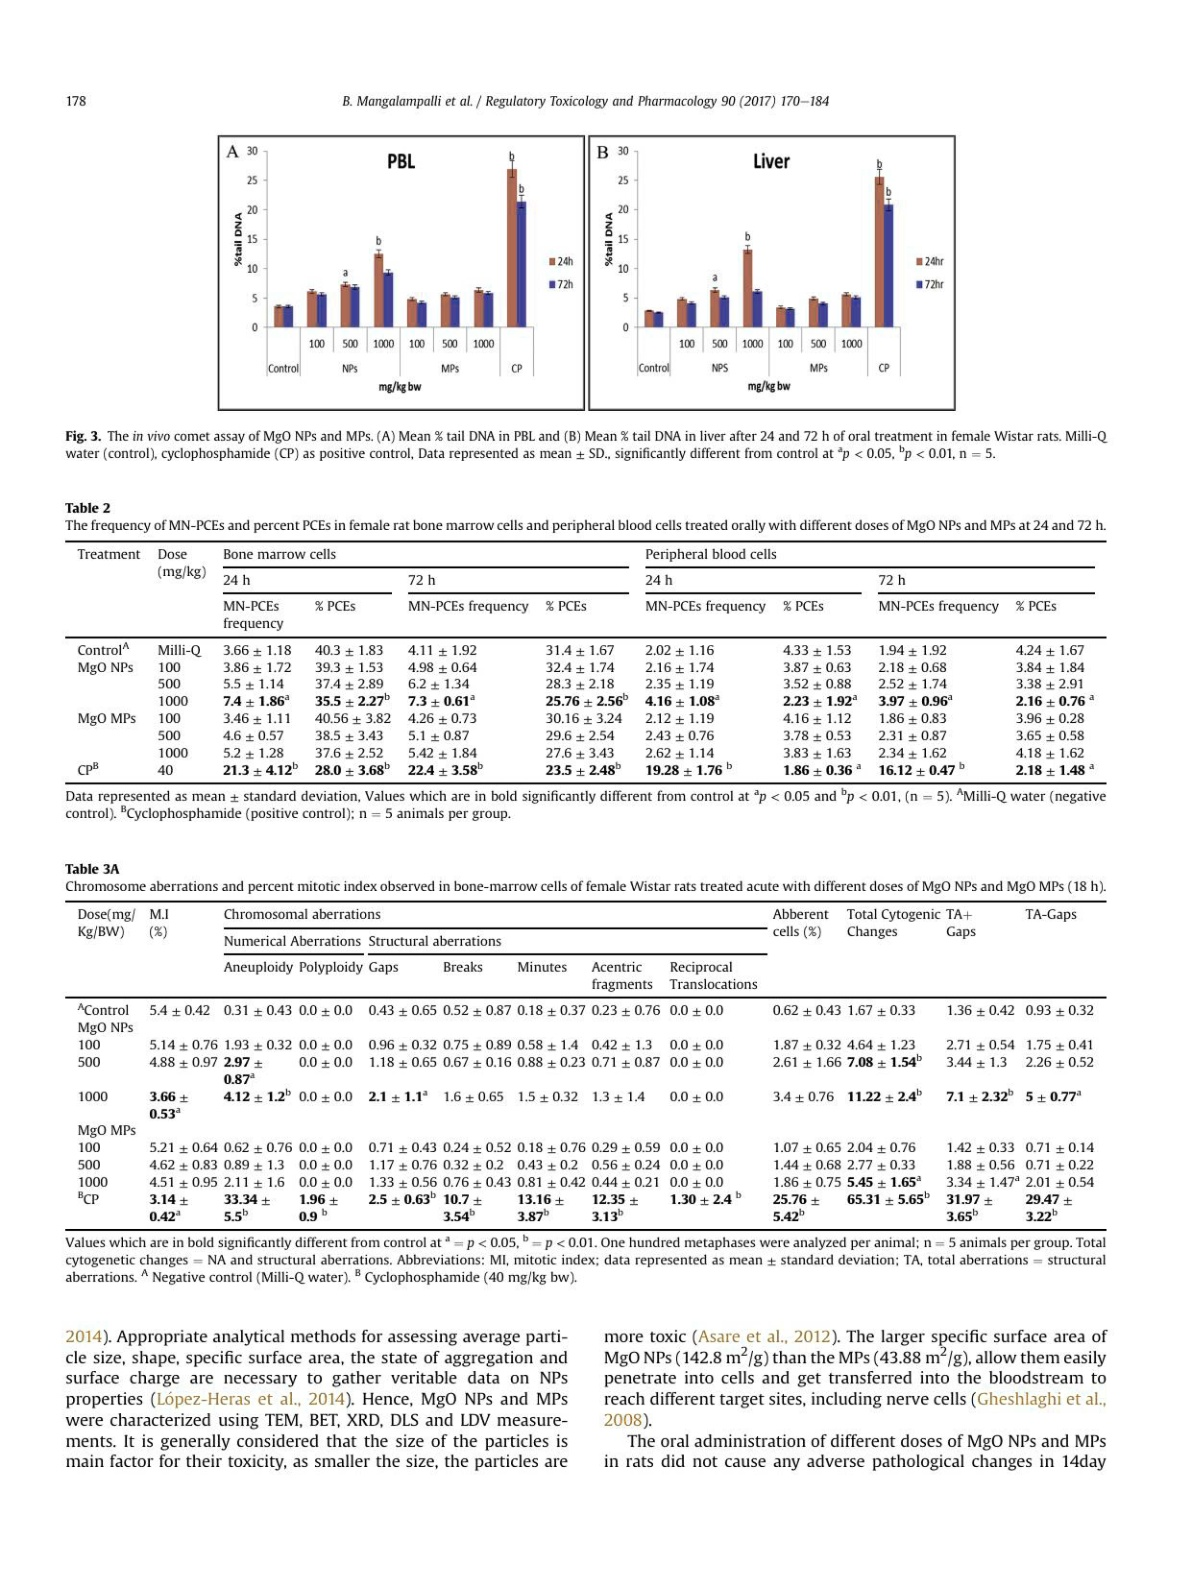partial_lined_merged_cells: (63, 899, 1107, 1234), (64, 539, 1107, 785)
